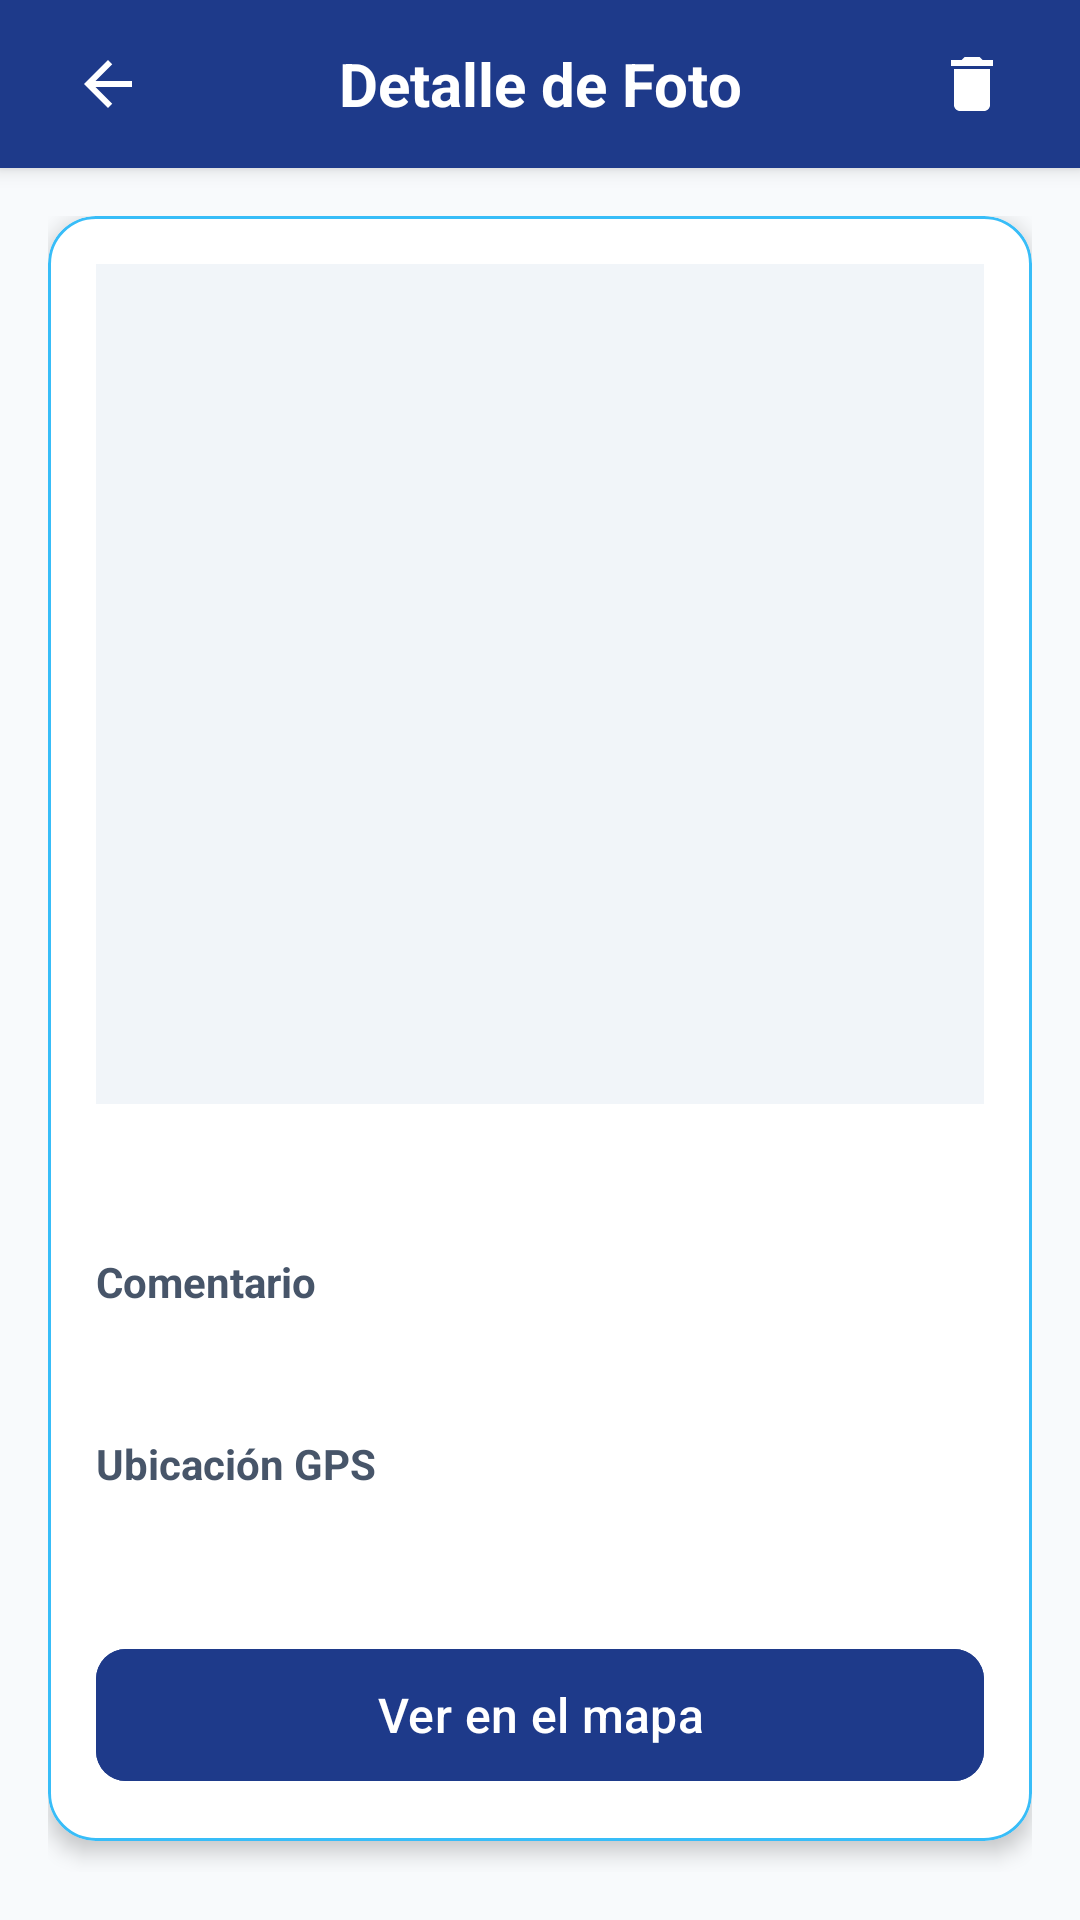

Where to tap for icons on this 1080*1920 app screen, as (x=x, y=y):
Eliminar: (x=972, y=84)
Regresar: (x=108, y=84)
